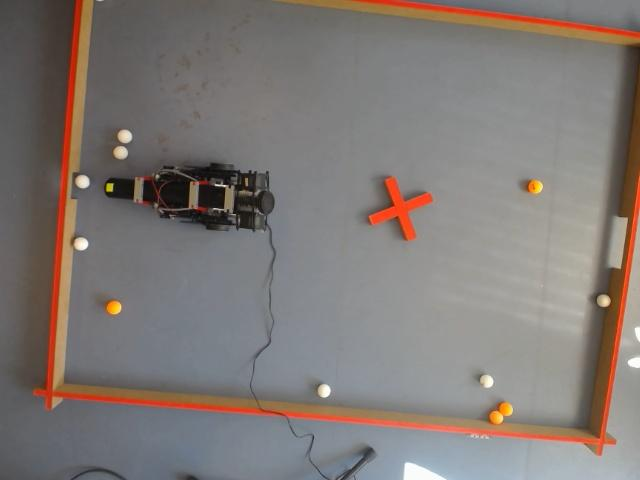orange: (106, 301, 122, 315), (528, 180, 543, 194), (489, 411, 503, 425), (499, 403, 513, 416)
robot: (104, 163, 276, 233)
robot-front: (104, 178, 130, 199)
white: (113, 145, 128, 160), (73, 237, 89, 251), (75, 175, 90, 189), (117, 129, 132, 143), (596, 294, 611, 308), (318, 384, 331, 398), (480, 375, 493, 388)
